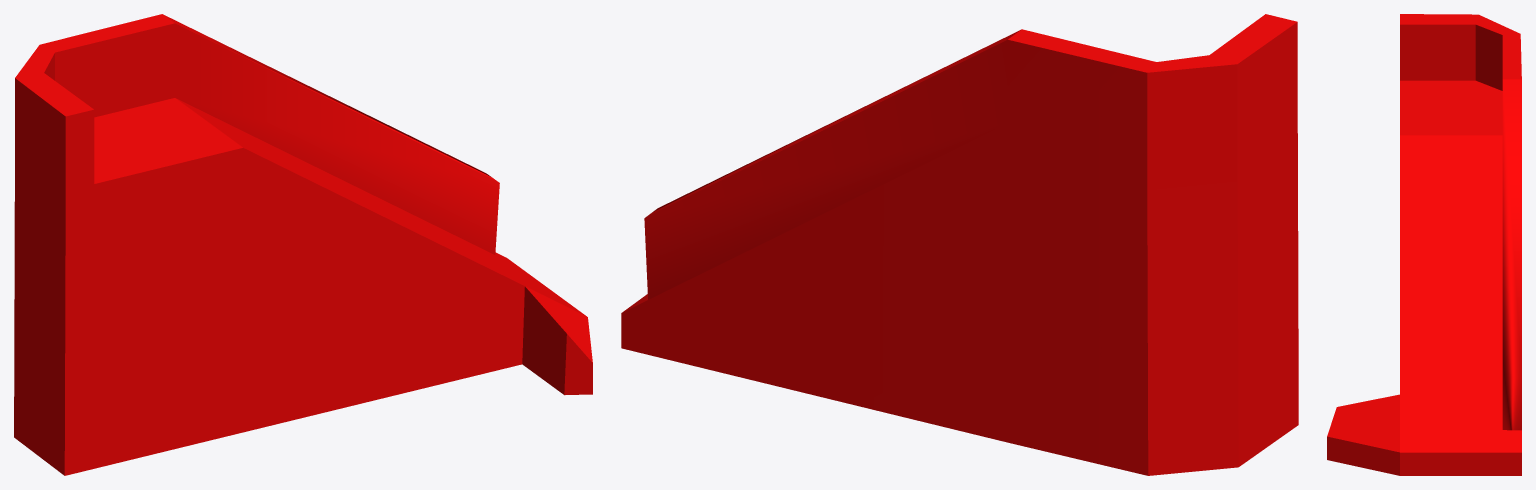
Rendered from SM_Bld_Vendor_08_Stairs_Collision.fbx.
3 renders of one model, left to right at view 1: azimuth 30°, elevation 25°; view 2: azimuth 150°, elevation 25°; view 3: azimuth 270°, elevation 25°, orthographic. The views are drawn at different scales.
Visible parts, largest first — view 1: SM_Bld_Vendor_08_Stairs_Collision; view 2: SM_Bld_Vendor_08_Stairs_Collision; view 3: SM_Bld_Vendor_08_Stairs_Collision.
Boxes of the visible parts, bbox=[...] form: SM_Bld_Vendor_08_Stairs_Collision: bbox=[14, 14, 592, 475]; SM_Bld_Vendor_08_Stairs_Collision: bbox=[621, 14, 1298, 475]; SM_Bld_Vendor_08_Stairs_Collision: bbox=[1327, 14, 1521, 475].
Size of the model in its own units: 913 by 599 by 391.
